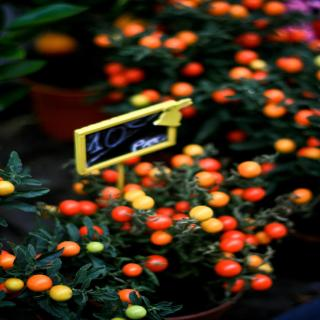tomato: (212, 258, 245, 280), (26, 276, 53, 292), (145, 255, 168, 273), (220, 235, 241, 254), (56, 241, 82, 255), (150, 230, 176, 244), (110, 206, 134, 221), (144, 215, 170, 228), (1, 251, 22, 267), (51, 285, 72, 301), (194, 172, 217, 186), (132, 196, 152, 212), (81, 226, 103, 240), (190, 205, 212, 219), (60, 200, 79, 216), (265, 222, 284, 238), (125, 188, 145, 203), (238, 162, 259, 176), (100, 187, 124, 199), (208, 192, 228, 206), (246, 188, 266, 201), (117, 288, 138, 300), (199, 219, 220, 231), (218, 215, 236, 229), (125, 304, 144, 317), (199, 158, 221, 169), (87, 241, 104, 255), (171, 156, 192, 167), (0, 180, 14, 196), (276, 138, 292, 152), (78, 200, 95, 213), (5, 278, 23, 290), (122, 264, 140, 276), (185, 144, 200, 157), (253, 276, 271, 286), (296, 190, 312, 201), (158, 208, 174, 218), (176, 201, 190, 210), (176, 212, 187, 219)
